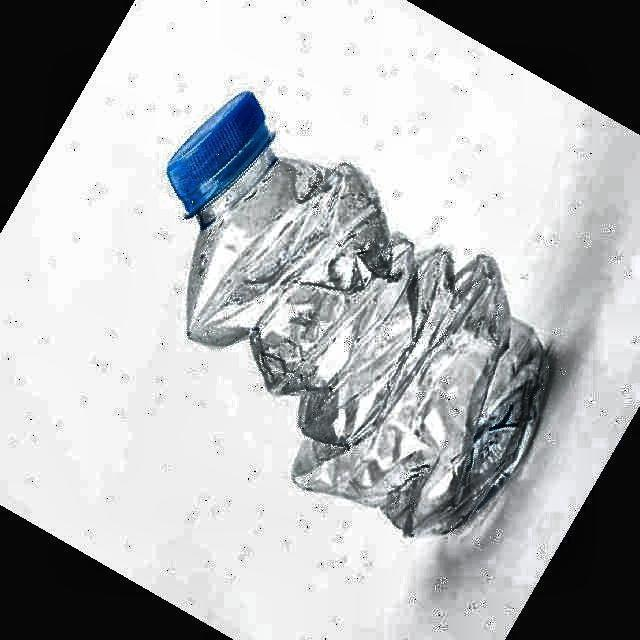plastic: (168, 91, 549, 534)
